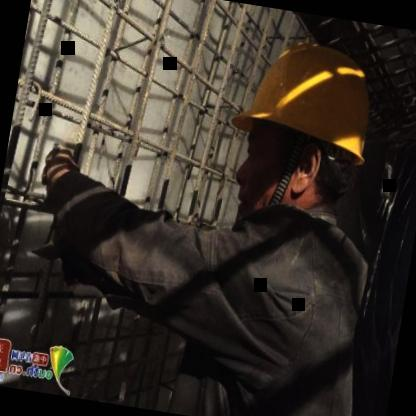helmet: (200, 19, 402, 266), (38, 339, 80, 387)
